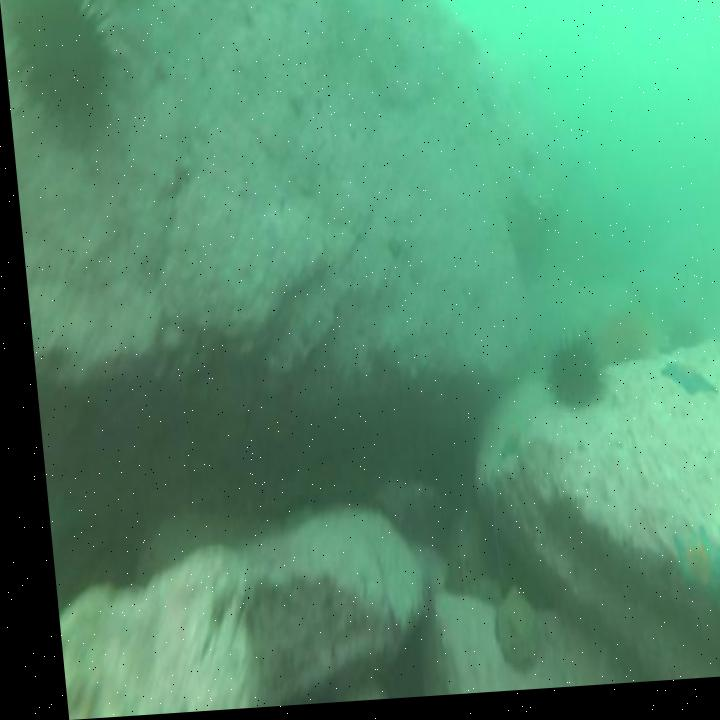echinus: (0, 0, 123, 151), (533, 329, 603, 419), (704, 493, 720, 685)
starfish: (657, 529, 719, 631), (649, 361, 711, 417)
